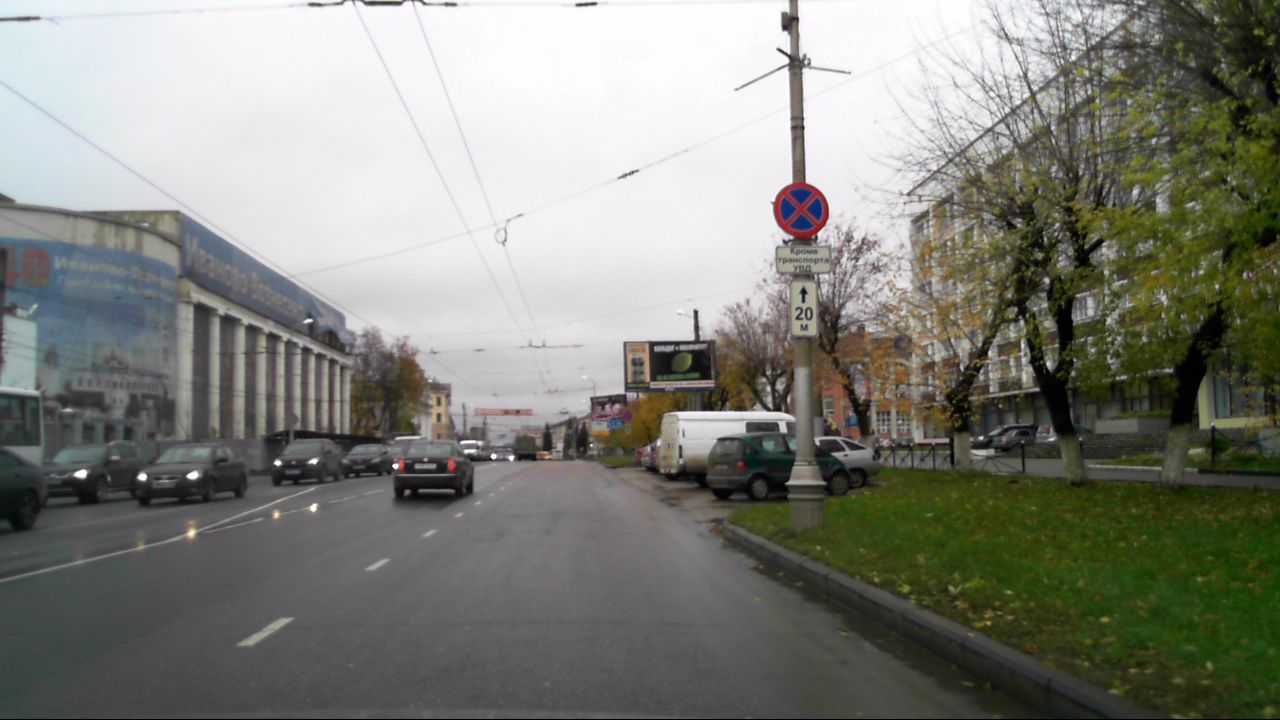No Parking: (773, 182, 829, 238)
